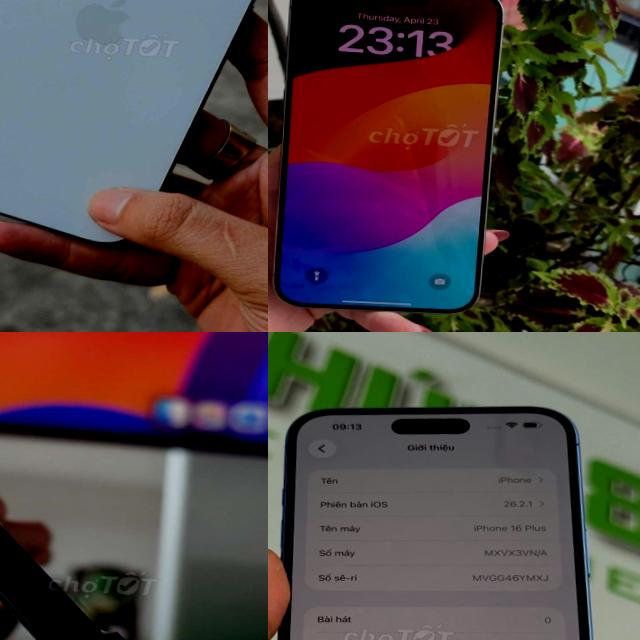gen_14: (0, 442, 261, 640)
gen_15: (268, 0, 507, 332)
gen_16: (279, 407, 592, 640)
gen_17: (0, 0, 268, 252)
